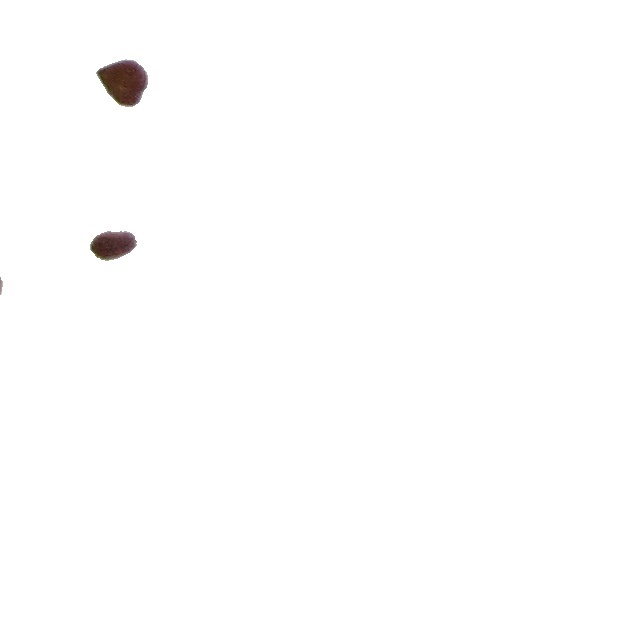buckwheat: (95, 58, 149, 108), (89, 230, 138, 262)
